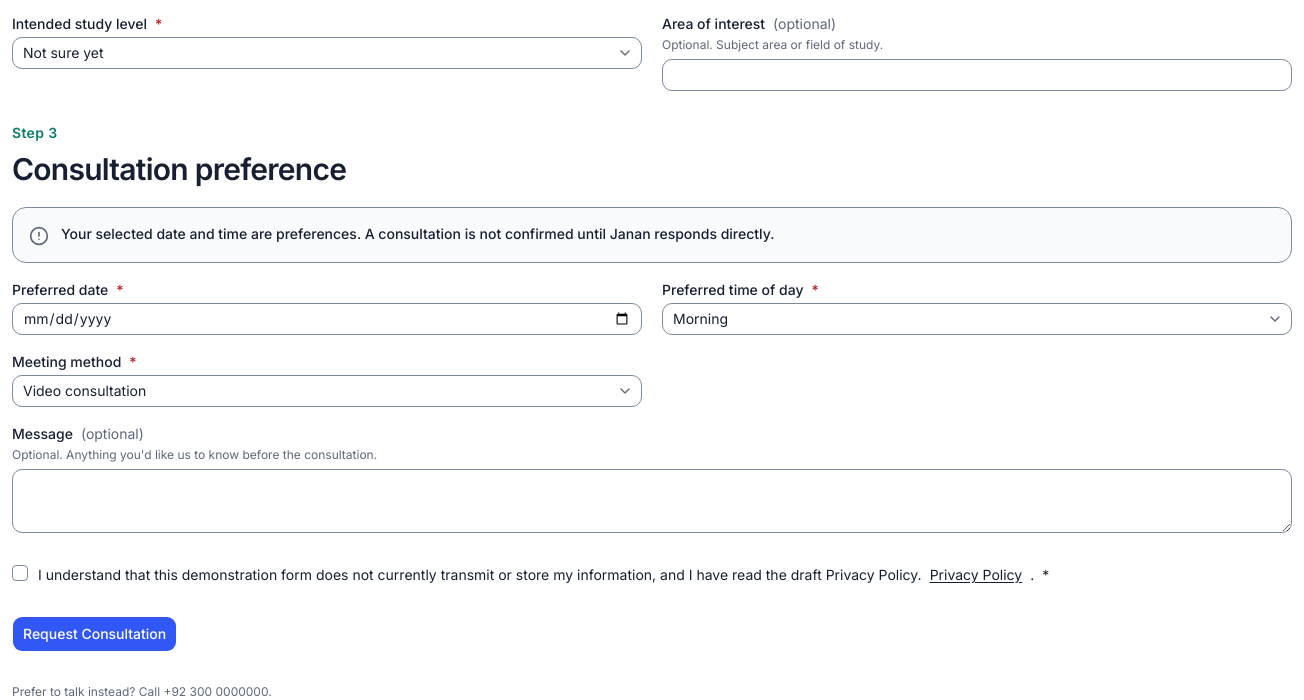
Test: ConsultationForm › shows accessible inline errors and an error summary when submitted empty
(page scrolled)
Click the button "Request Consultation": (95, 634) [12,616,177,652]
(page scrolled)
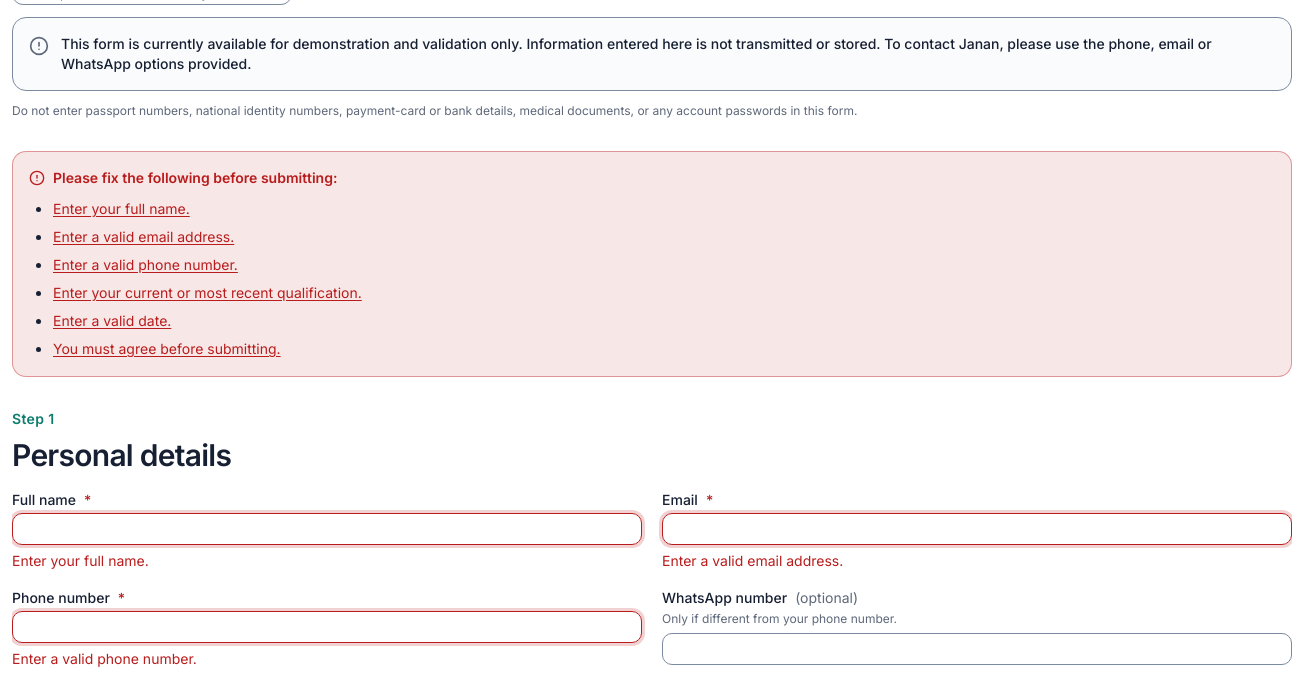
Expected: the message is shown, [12,151,1292,377]
Expected: the link "Enter your full name." is shown, [53,200,190,217]
